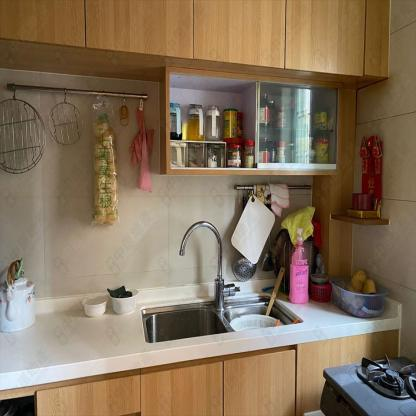Cupboard: (0, 329, 403, 415), (0, 0, 391, 88)
Faucet: (179, 213, 224, 299)
Sink: (142, 295, 301, 343)
Stove: (320, 356, 416, 415)
